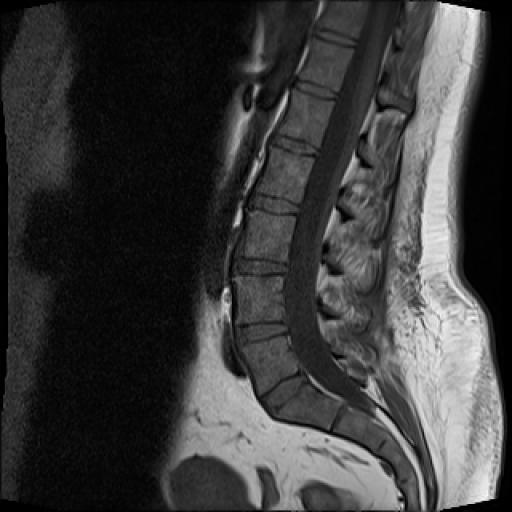L1: (275, 88, 335, 149)
L2: (254, 144, 316, 205)
L3: (243, 210, 296, 262)
L4: (233, 276, 285, 325)
L5: (240, 335, 299, 397)
S1: (278, 383, 340, 430)
